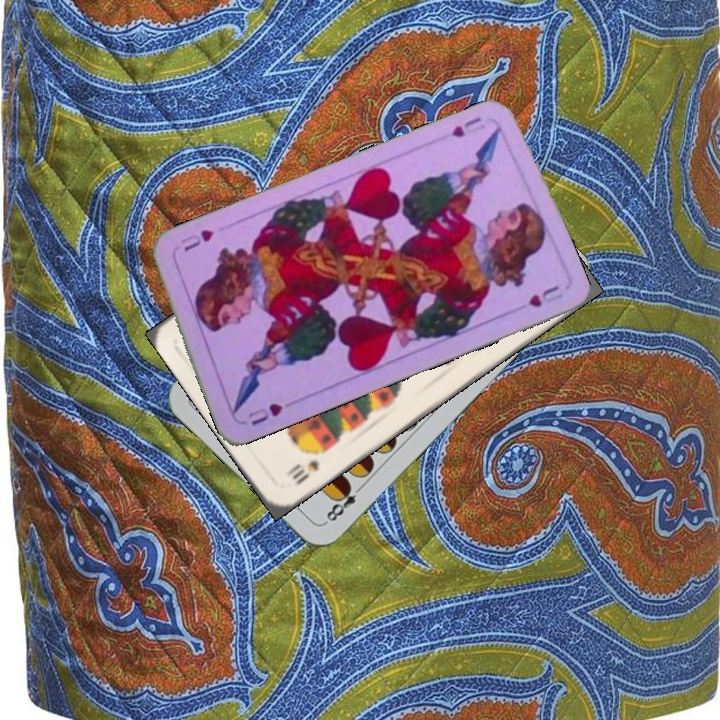E8: (321, 479, 367, 526)
HU: (244, 398, 285, 428), (446, 113, 484, 140)
S10: (282, 455, 322, 487)
